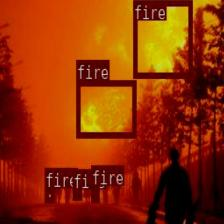fire: (132, 0, 191, 77), (75, 79, 136, 137), (90, 185, 98, 202), (44, 188, 54, 201), (72, 188, 82, 200)
